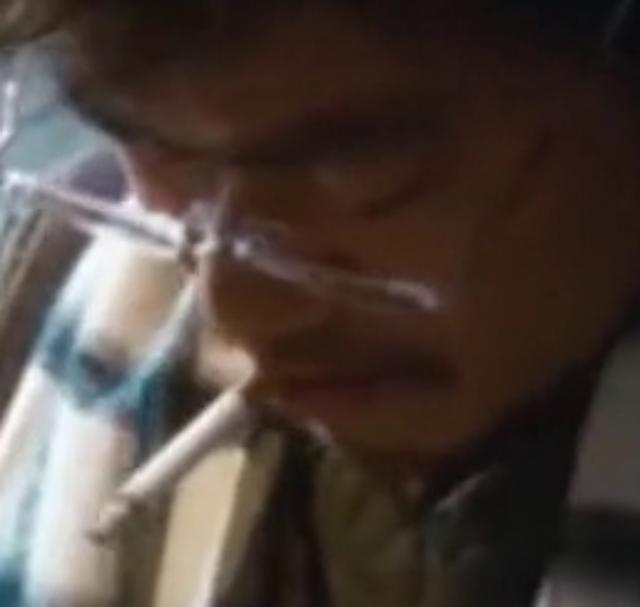Cigarette: (78, 374, 268, 548)
